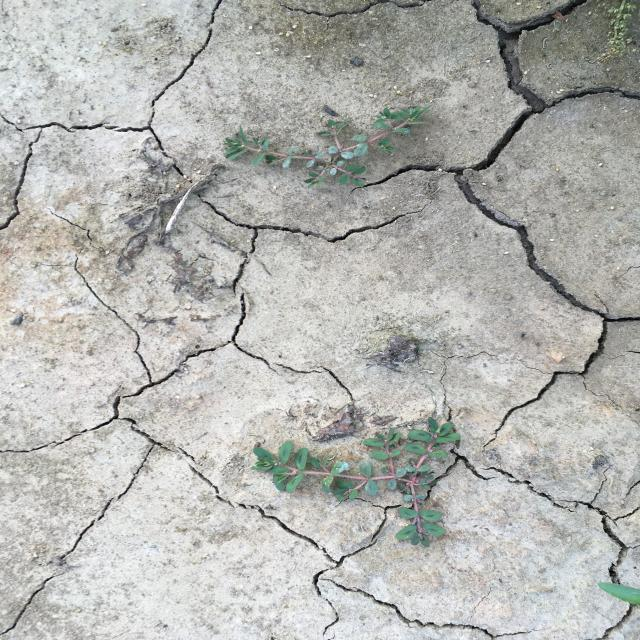SpottedSpurge: (250, 415, 464, 551), (223, 104, 431, 189)
